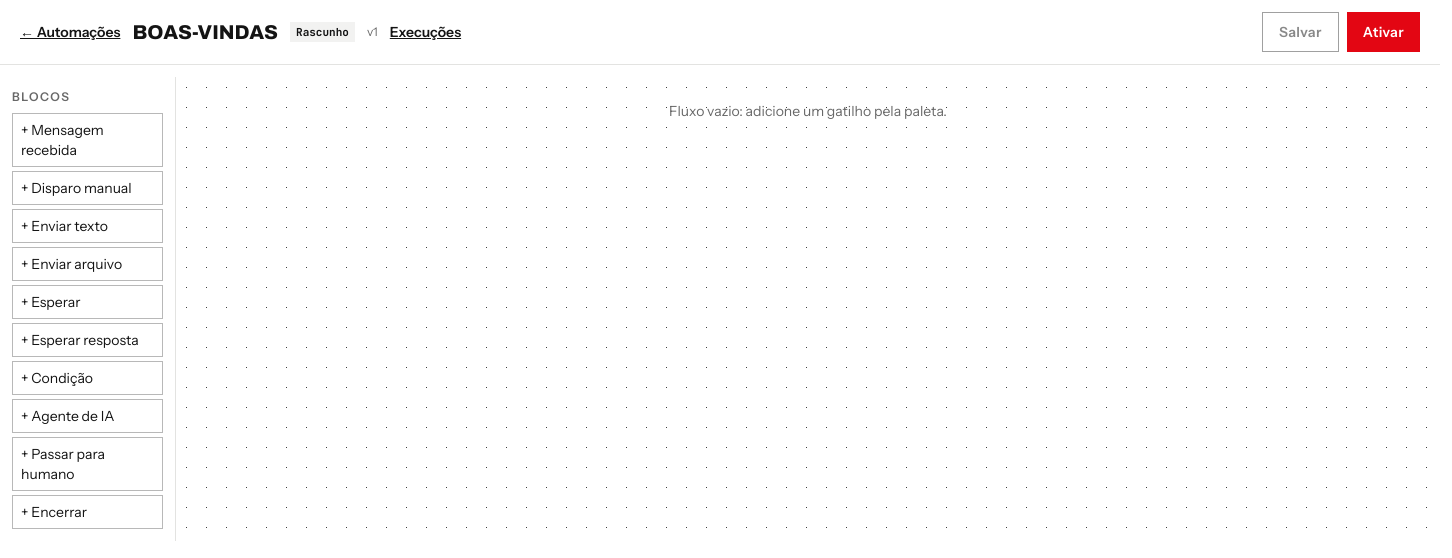
FlowEditor › adds a block from the palette, selects it and edits it in the panel
Expected: the text "Fluxo vazio: adicione um gatilho pela paleta." is shown, [669,102,947,120]
Click the button with aria-label "Adicionar Enviar texto".
click(88, 226)  # box [12,209,163,243]
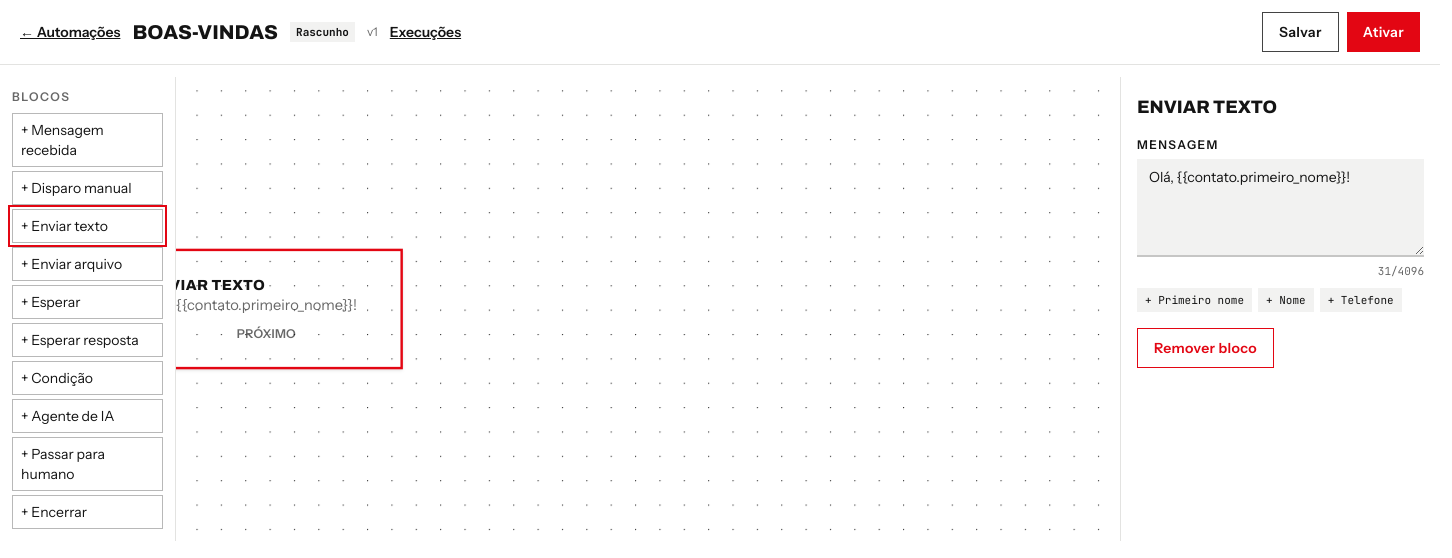
Type "Oi" into the text box labelled "Mensagem".
click(1280, 208); type("Oi")  # box [1137,159,1424,257]
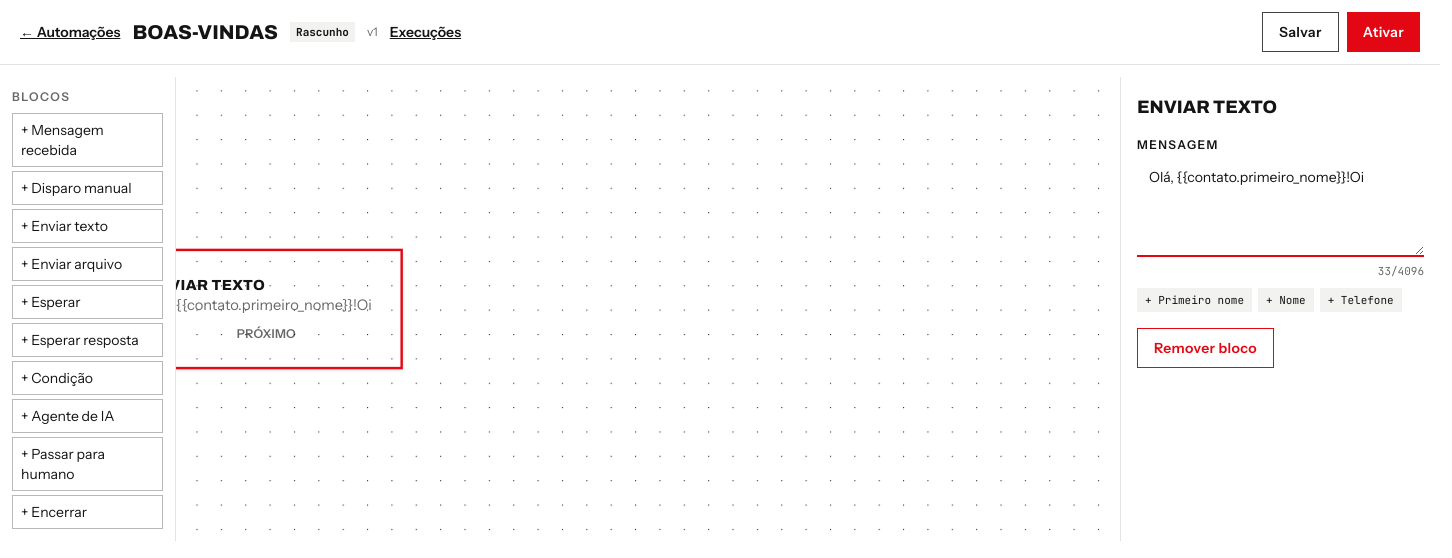
Expected: the element with test id "block-send_text" shows "Oi", [176,295,372,313]
Click the button "Remover bloco".
click(1205, 348)  # box [1137,328,1274,368]
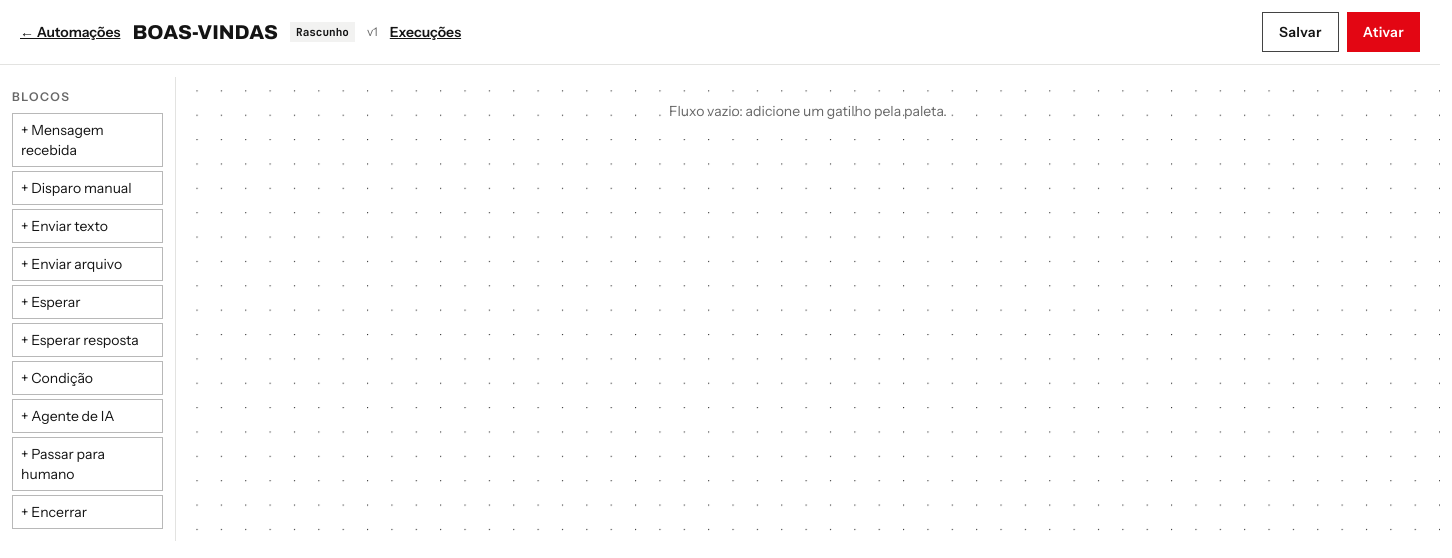
Expected: the element with test id "block-send_text" is gone
